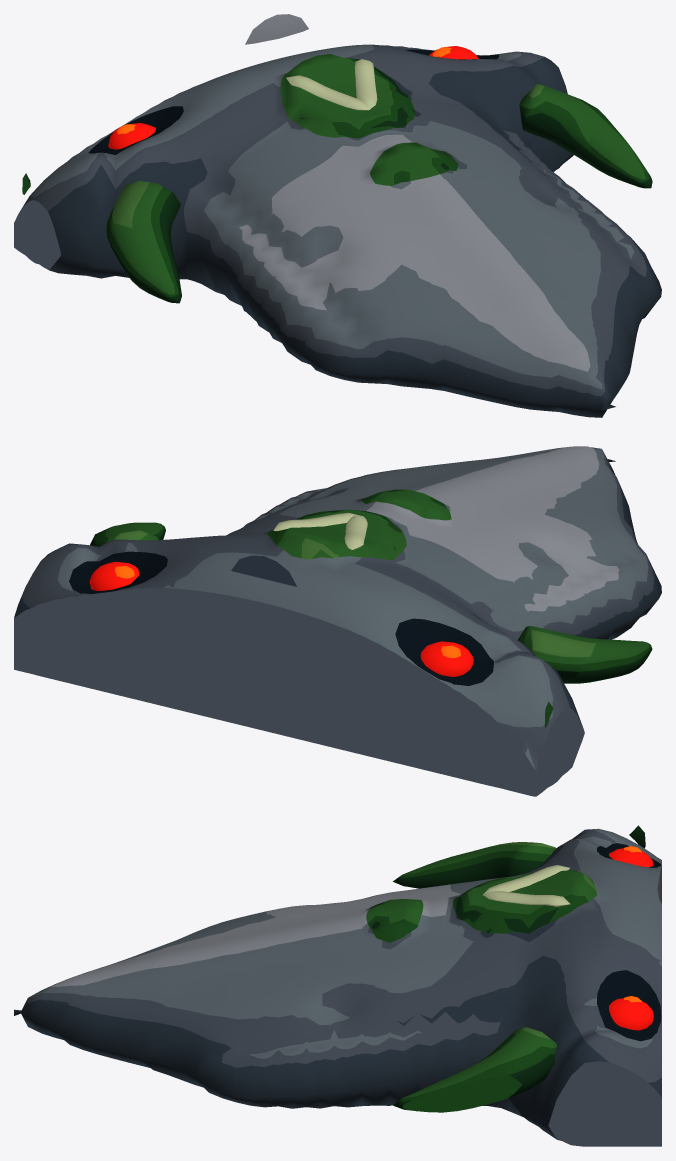
File: torm_beetle_bm.glb
The picture shows the model from 3 angles, top to bottom: view 1: azimuth 30°, elevation 25°; view 2: azimuth 150°, elevation 25°; view 3: azimuth 270°, elevation 25°; orthographic projection. The views are drawn at different scales.
Parts seen in each view (by area): view 1: torm_beetle_bm; view 2: torm_beetle_bm; view 3: torm_beetle_bm.
Boxes of the visible parts, box(x1,y1,x2,y2) form: torm_beetle_bm: box(14, 14, 661, 417); torm_beetle_bm: box(14, 446, 661, 796); torm_beetle_bm: box(14, 825, 661, 1146).
Size of the model in its own units: 24 by 7.68 by 27.41.
